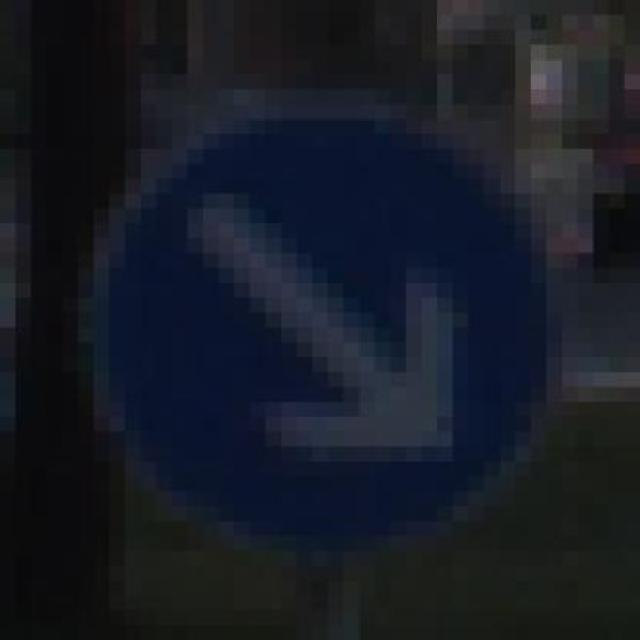Keep-Right: (93, 75, 578, 550)
